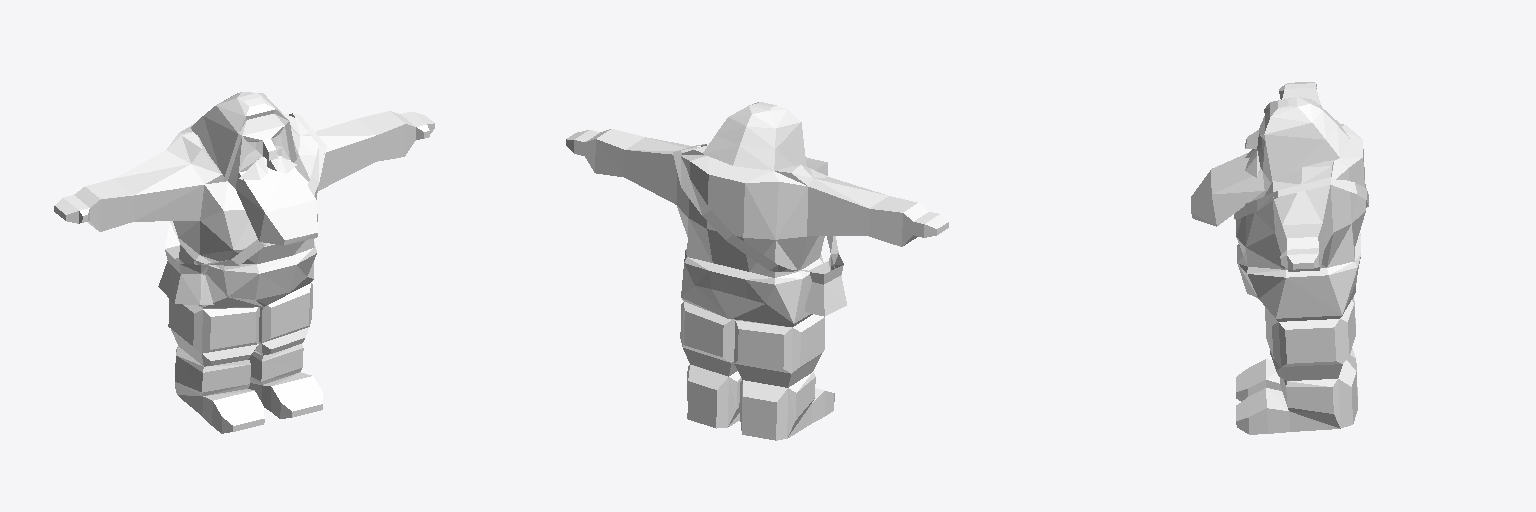
Rendered from gnome.obj.
3 views of the same model, side by side, from view 1: azimuth 30°, elevation 25°; view 2: azimuth 150°, elevation 25°; view 3: azimuth 270°, elevation 25° (orthographic).
Visible parts, largest first — view 1: gnom:Gnome; view 2: gnom:Gnome; view 3: gnom:Gnome.
Boxes of the visible parts, <box> form: gnom:Gnome: <box>54,92,434,433</box>; gnom:Gnome: <box>566,102,948,440</box>; gnom:Gnome: <box>1191,82,1368,434</box>.
Bounding box in the file's own units: 6.86 × 5.45 × 2.84.